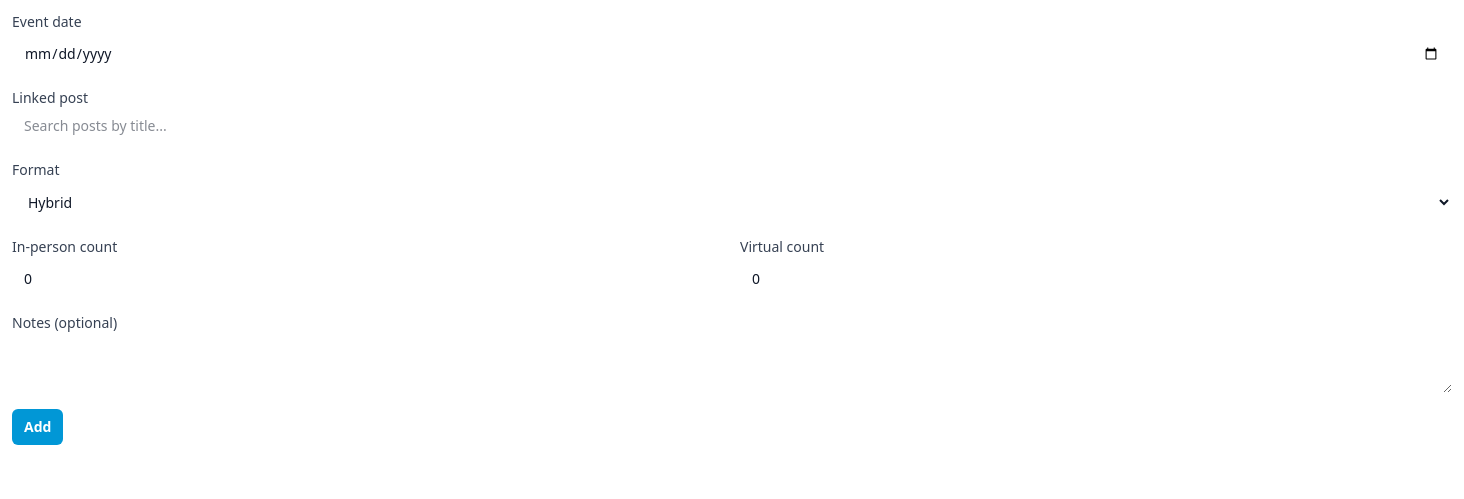
it: AttendanceForm › blocks submission without a linked post
Type "2025-01-01" into the date field labelled "Event date" at x=732, y=54, box [12,36,1452,72]
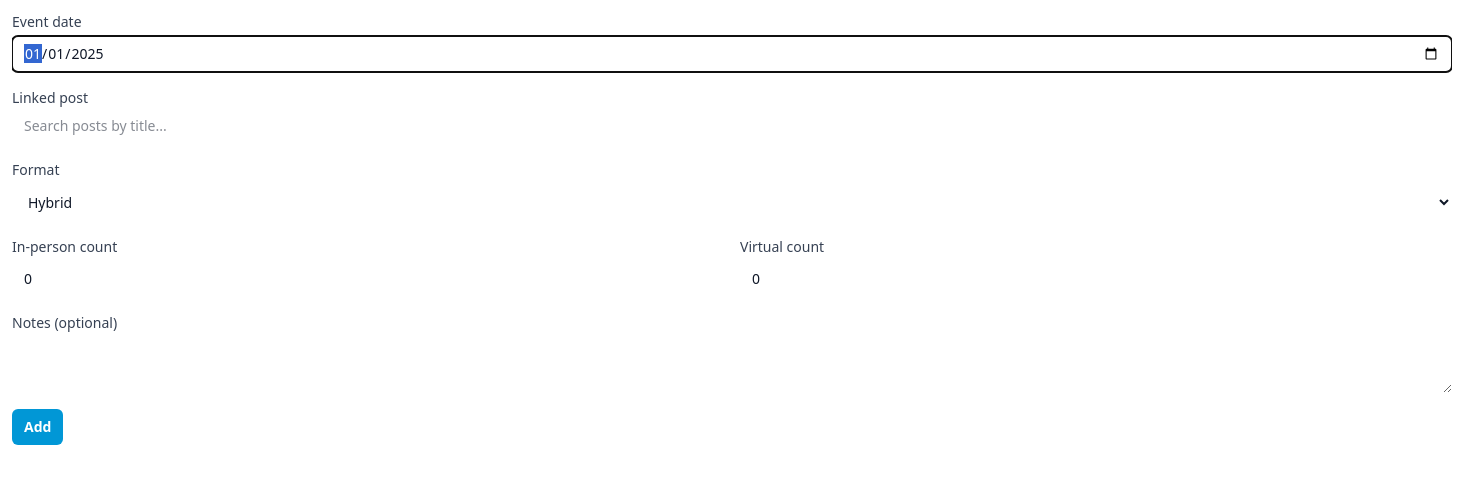
Click the button "Add" at x=38, y=427, box [12,409,63,445]
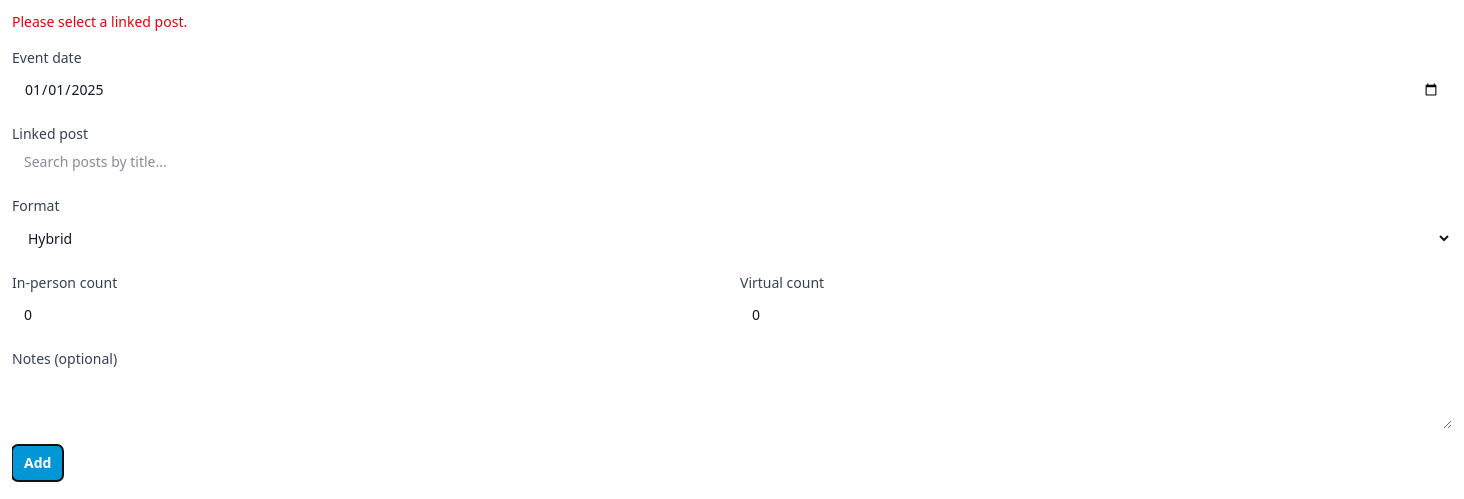
Expected: the text "Please select a linked post." is shown, [12,12,187,31]
